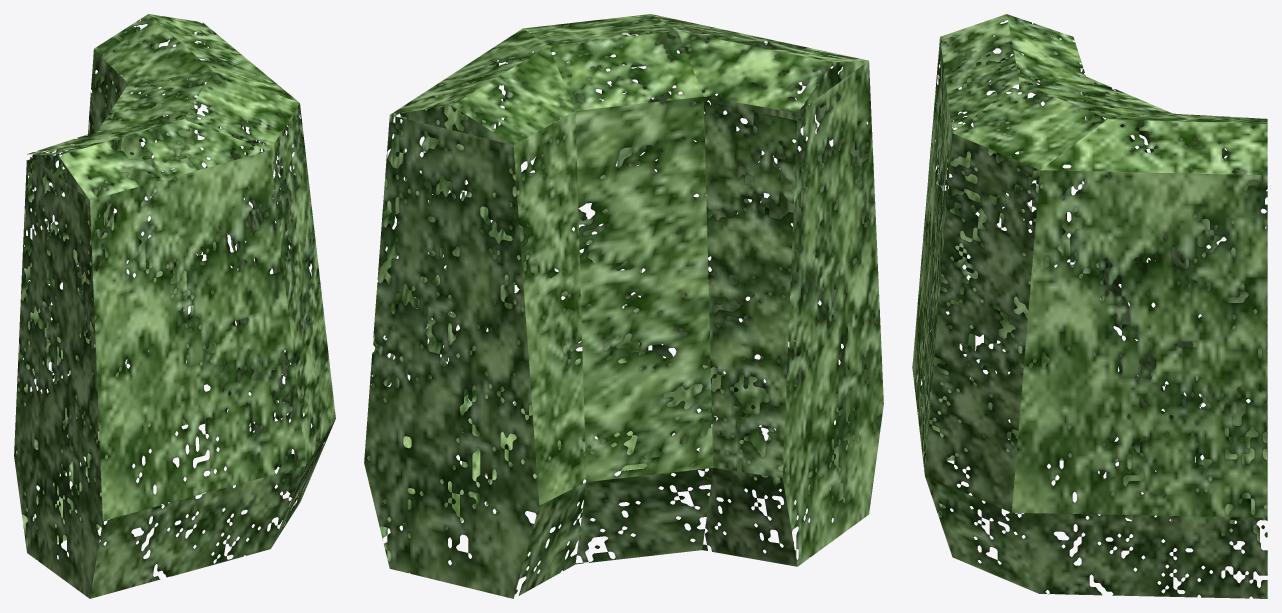
File: bush_long_round_corner_summer.fbx
The picture shows the model from 3 angles, left to right: view 1: azimuth 30°, elevation 25°; view 2: azimuth 150°, elevation 25°; view 3: azimuth 270°, elevation 25°; orthographic projection. The views are drawn at different scales.
Parts seen in each view (by area): view 1: bush_long_round_corner_summer; view 2: bush_long_round_corner_summer; view 3: bush_long_round_corner_summer.
Part boxes in pixels (box(x1,y1,x2,y2)): bush_long_round_corner_summer: box(14, 14, 335, 598); bush_long_round_corner_summer: box(364, 14, 883, 598); bush_long_round_corner_summer: box(912, 14, 1267, 598).
Bounding box in the file's own units: 135 × 188 × 135.
Materials: 1 (1 with a texture image).
